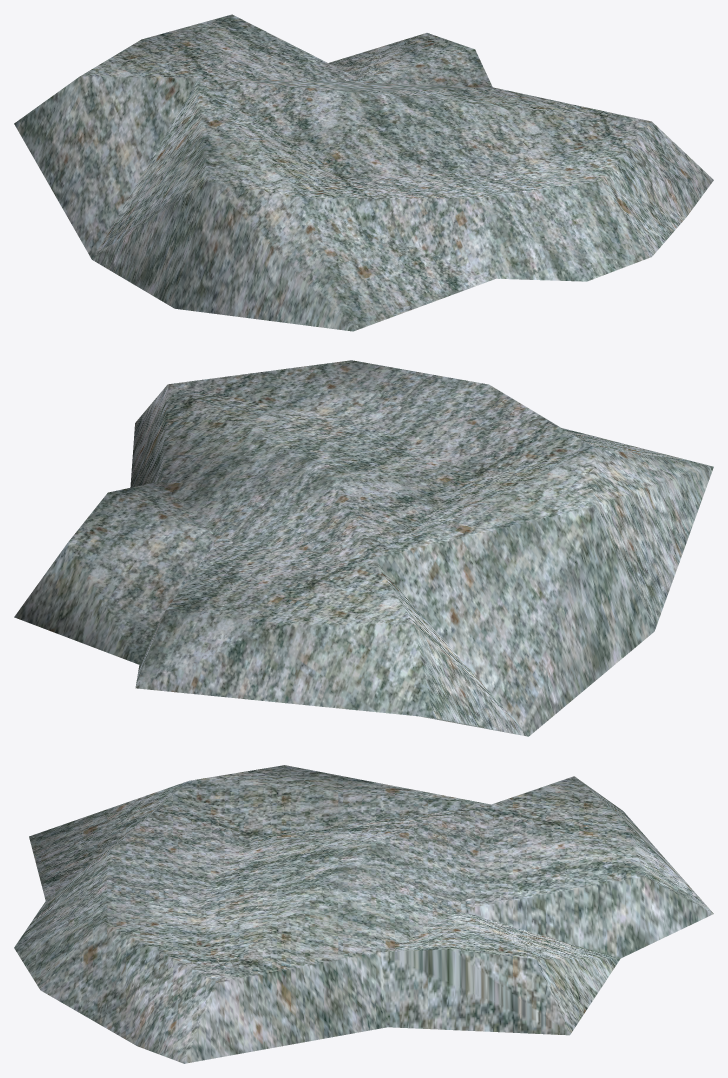
Rendered from rock_graniteslab_medium_l1.fbx.
The picture shows the model from 3 angles, top to bottom: view 1: azimuth 30°, elevation 25°; view 2: azimuth 150°, elevation 25°; view 3: azimuth 270°, elevation 25°; orthographic projection. The views are drawn at different scales.
Visible parts, largest first — view 1: mesh_node; view 2: mesh_node; view 3: mesh_node.
Part boxes in pixels (box(x1,y1,x2,y2)): mesh_node: box(14, 14, 713, 331); mesh_node: box(14, 360, 713, 736); mesh_node: box(14, 765, 713, 1063).
Size of the model in its own units: 1.78 by 0.4976 by 2.14.
